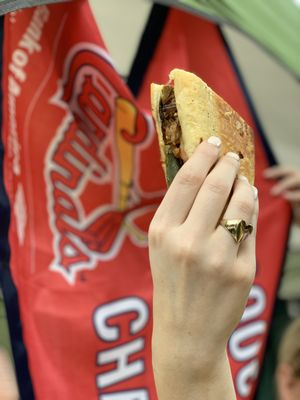burger: (150, 68, 259, 391)
